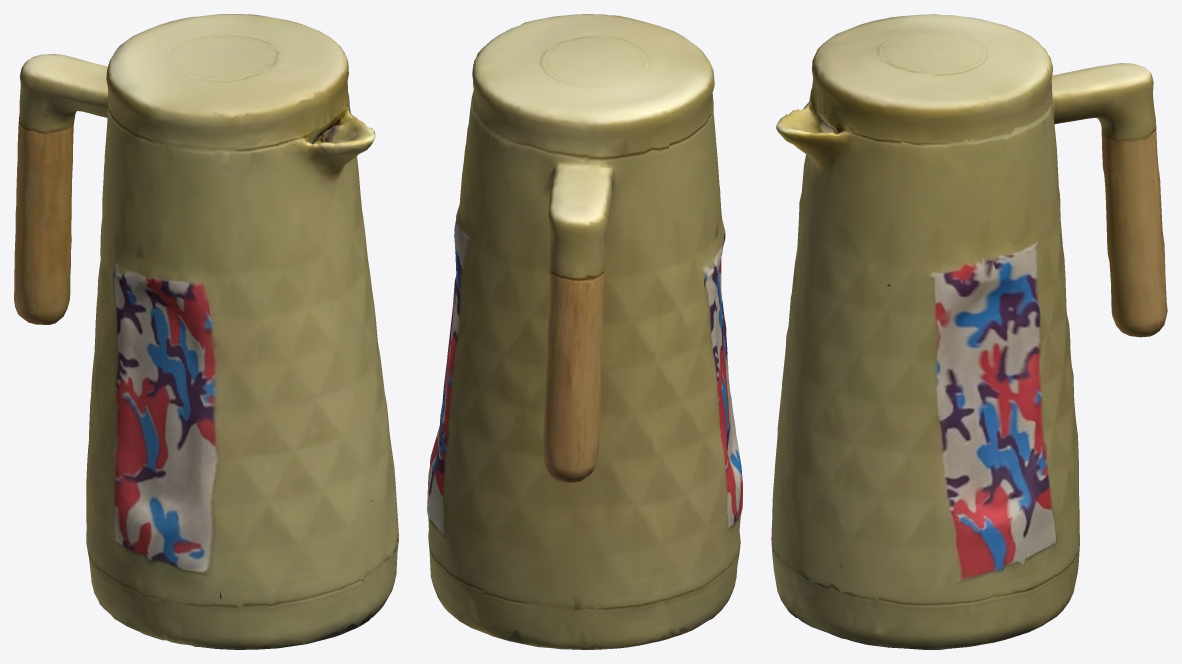
Rendered from KettleGreen.obj.
3 renders of one model, left to right at view 1: azimuth 30°, elevation 25°; view 2: azimuth 150°, elevation 25°; view 3: azimuth 270°, elevation 25°, orthographic.
Size of the model in its own units: 0.1346 by 0.2536 by 0.1714.
Materials: 1 (1 with a texture image).
